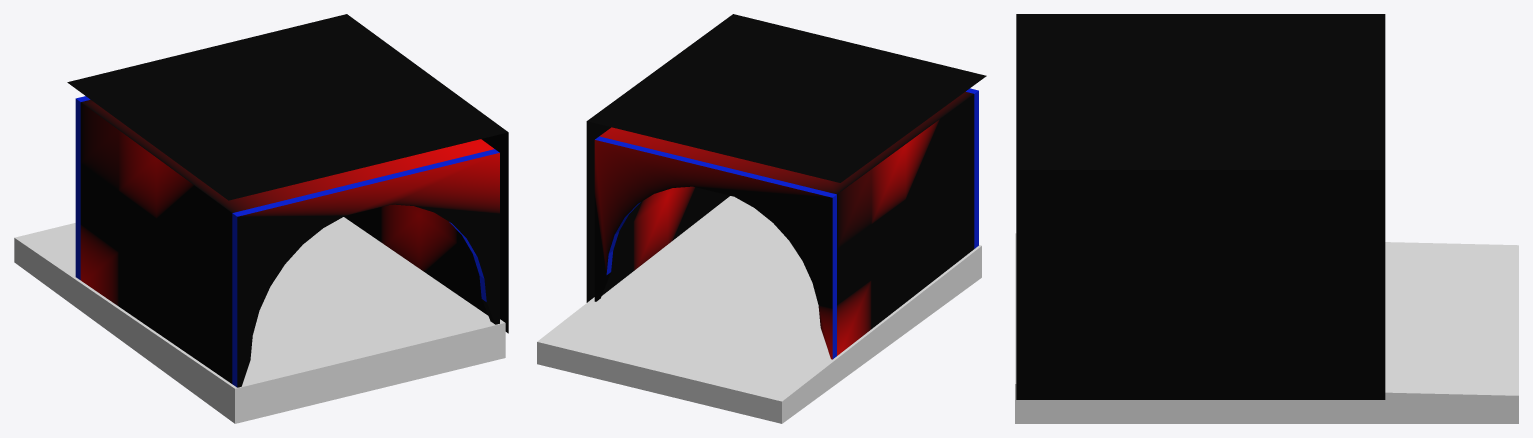
The model's file is ApartmentEntry_collisionSetup.fbx.
The picture shows the model from 3 angles, left to right: view 1: azimuth 30°, elevation 25°; view 2: azimuth 150°, elevation 25°; view 3: azimuth 270°, elevation 25°; orthographic projection. The views are drawn at different scales.
Visible parts, largest first — view 1: collisionCube.067, collisionConvex.104, collisionCube.065, collisionConcave, collisionCube.066, collisionConcave.009; view 2: collisionConvex.104, collisionCube.067, collisionCube.065, collisionConcave.009, collisionCube.066, collisionConcave; view 3: collisionCube.066, collisionCube.067, collisionConvex.104.
Part boxes in pixels (<box>): collisionCube.067: <box>67,14,507,212</box>; collisionConvex.104: <box>14,217,505,423</box>; collisionCube.065: <box>80,102,232,383</box>; collisionConcave: <box>232,149,499,387</box>; collisionCube.066: <box>344,132,508,333</box>; collisionConcave.009: <box>75,96,90,279</box>; collisionConvex.104: <box>537,196,981,423</box>; collisionCube.067: <box>587,14,986,194</box>; collisionCube.065: <box>837,94,974,355</box>; collisionConcave.009: <box>594,136,836,359</box>; collisionCube.066: <box>586,121,729,302</box>; collisionConcave: <box>966,88,978,248</box>; collisionCube.066: <box>1016,170,1385,399</box>; collisionCube.067: <box>1016,14,1385,169</box>; collisionConvex.104: <box>1015,233,1518,423</box>.
Size of the model in its own units: 800 by 613 by 1092.
